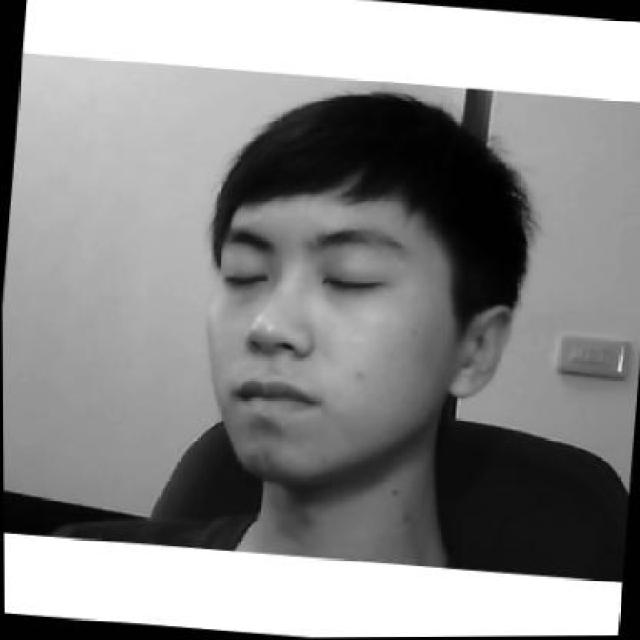inattentif: (188, 71, 534, 500)
